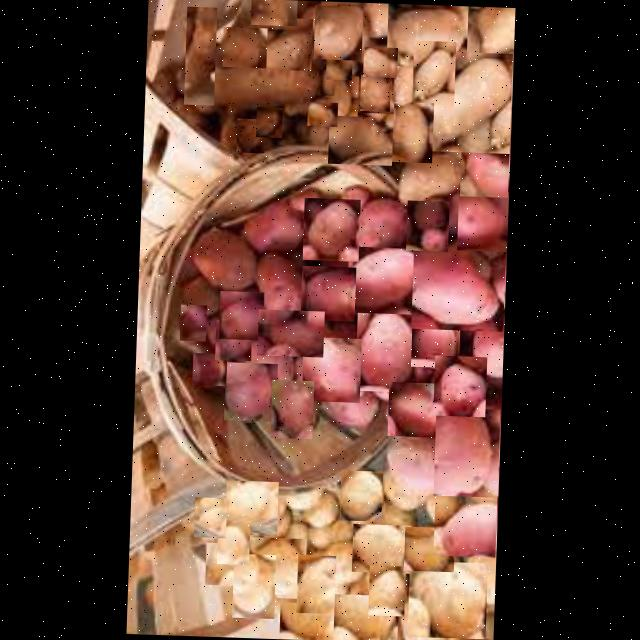Damaged potato: (208, 55, 316, 111), (328, 110, 393, 164), (184, 5, 216, 104), (255, 15, 312, 70), (313, 4, 363, 59), (392, 100, 434, 162), (222, 25, 267, 67), (147, 55, 176, 102), (328, 74, 358, 115), (250, 0, 297, 25), (360, 74, 390, 110), (362, 46, 398, 76), (211, 115, 238, 154), (236, 117, 265, 152), (255, 105, 282, 136), (306, 100, 338, 126), (326, 58, 352, 79), (316, 68, 335, 94)
Defected potato: (431, 49, 512, 152), (410, 246, 506, 330), (433, 406, 500, 496), (354, 306, 420, 392), (346, 245, 424, 314), (242, 188, 310, 258), (190, 228, 256, 291), (249, 248, 305, 322), (433, 494, 497, 556), (302, 336, 362, 402), (348, 193, 409, 254), (302, 197, 360, 260), (387, 381, 449, 436), (433, 354, 487, 416), (256, 308, 324, 356), (224, 360, 278, 420), (456, 188, 508, 250), (300, 264, 356, 320), (461, 315, 504, 386), (410, 313, 460, 367), (460, 142, 510, 196), (270, 378, 314, 438), (242, 339, 293, 386), (218, 289, 264, 339), (406, 199, 450, 250), (180, 274, 218, 320), (215, 318, 252, 359), (192, 352, 227, 384), (180, 303, 207, 340)
Diseased-fungal potato: (386, 2, 468, 67), (380, 430, 454, 492), (393, 147, 469, 207)
Potato: (407, 558, 488, 638), (246, 536, 306, 598), (330, 592, 398, 640), (224, 478, 278, 534), (351, 522, 411, 572), (232, 552, 276, 618), (403, 525, 455, 571), (296, 554, 336, 612), (339, 469, 383, 520), (279, 600, 334, 640), (368, 564, 406, 615), (216, 518, 250, 564), (205, 541, 240, 584), (320, 544, 359, 582), (298, 491, 335, 527), (194, 496, 226, 537), (276, 519, 309, 557)
Sprouted potato: (411, 40, 456, 114)
